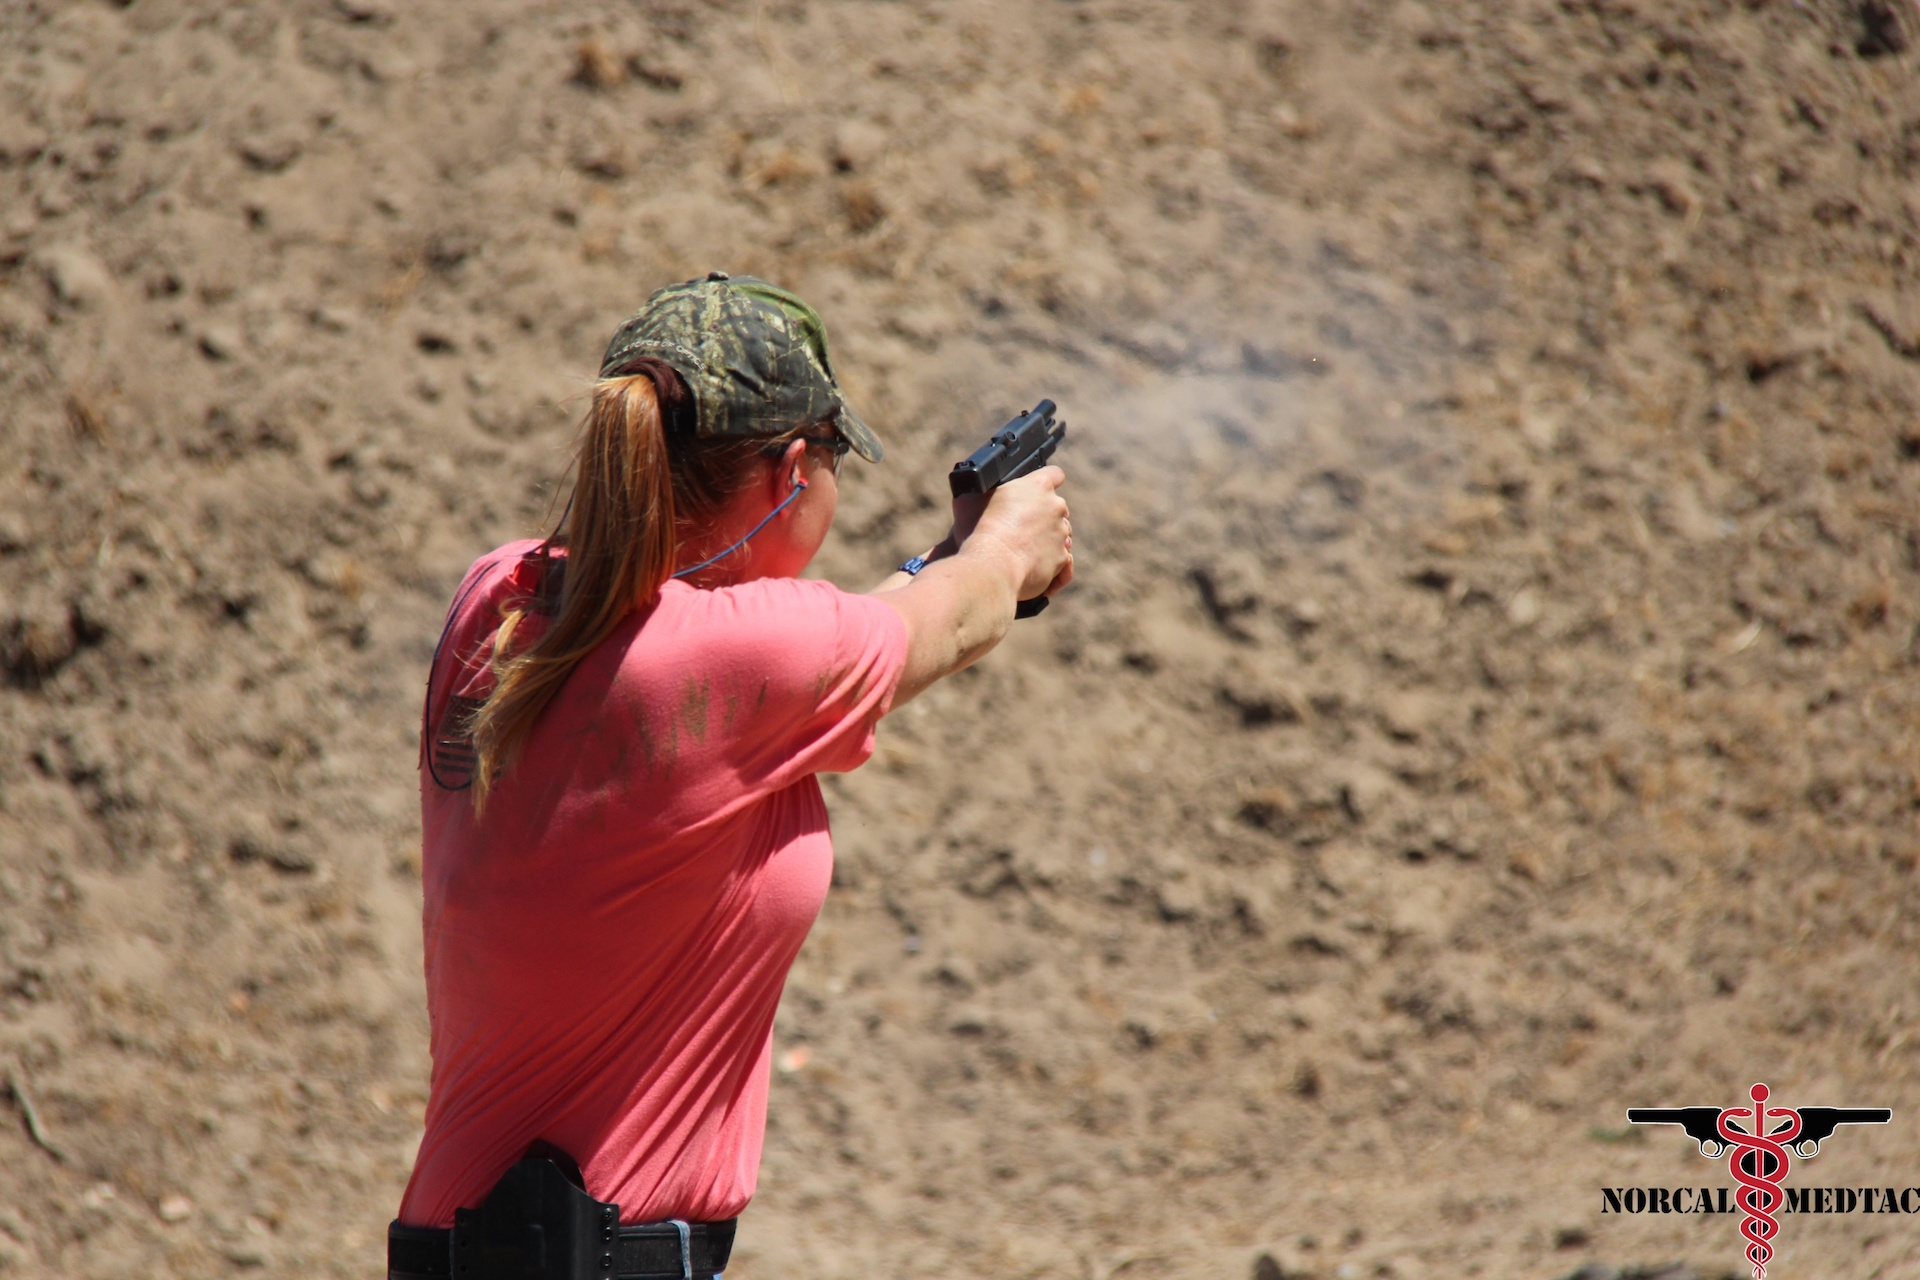pistol: (950, 396, 1069, 617)
